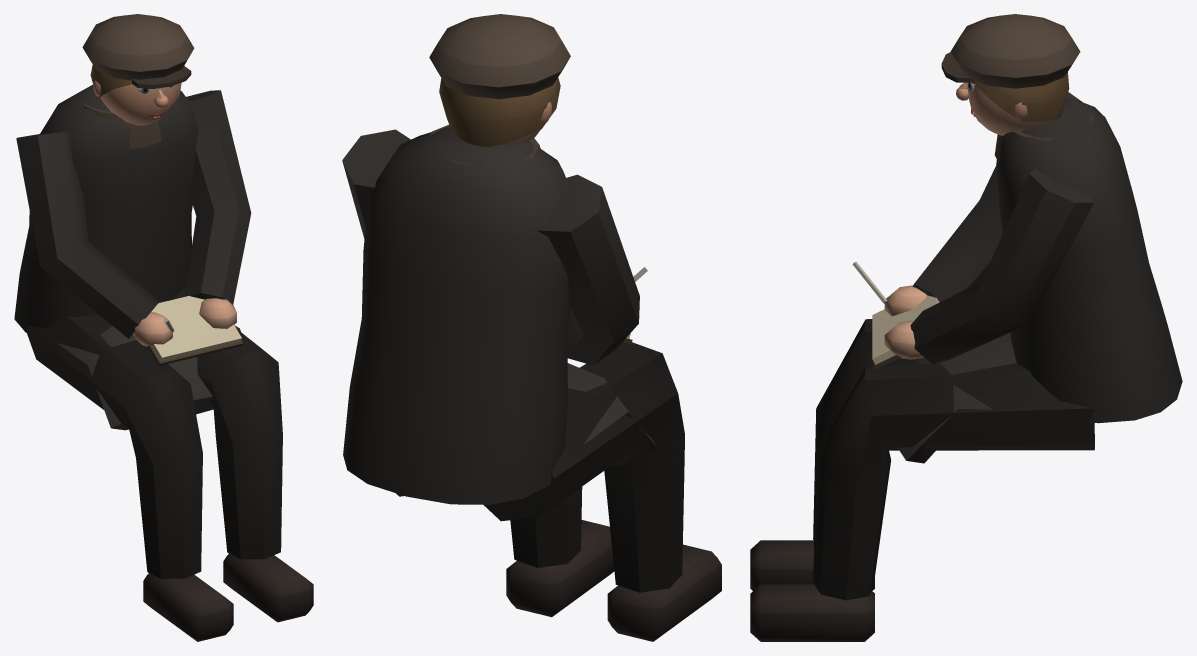
File: ph_chr_student_a.glb
3 views of the same model, side by side, from view 1: azimuth 30°, elevation 25°; view 2: azimuth 150°, elevation 25°; view 3: azimuth 270°, elevation 25° (orthographic). The views are drawn at different scales.
Parts seen in each view (by area): view 1: ph_chr_student_a; view 2: ph_chr_student_a; view 3: ph_chr_student_a.
Boxes of the visible parts, box(x1,y1,x2,y2) form: ph_chr_student_a: box(14, 14, 313, 641); ph_chr_student_a: box(342, 14, 721, 641); ph_chr_student_a: box(750, 14, 1182, 641).
Size of the model in its own units: 0.5152 by 1.25 by 0.8315.
